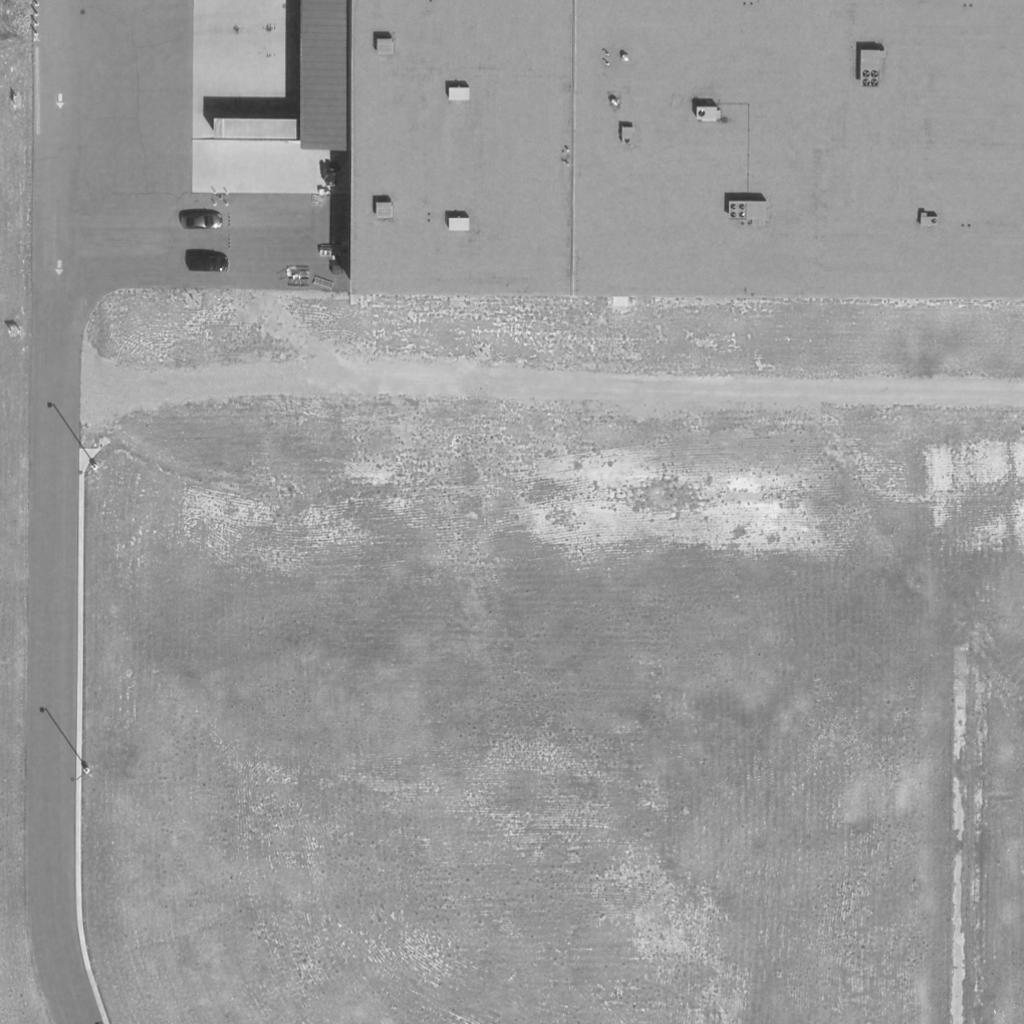vehicle: (186, 255, 230, 273), (181, 213, 223, 229)
